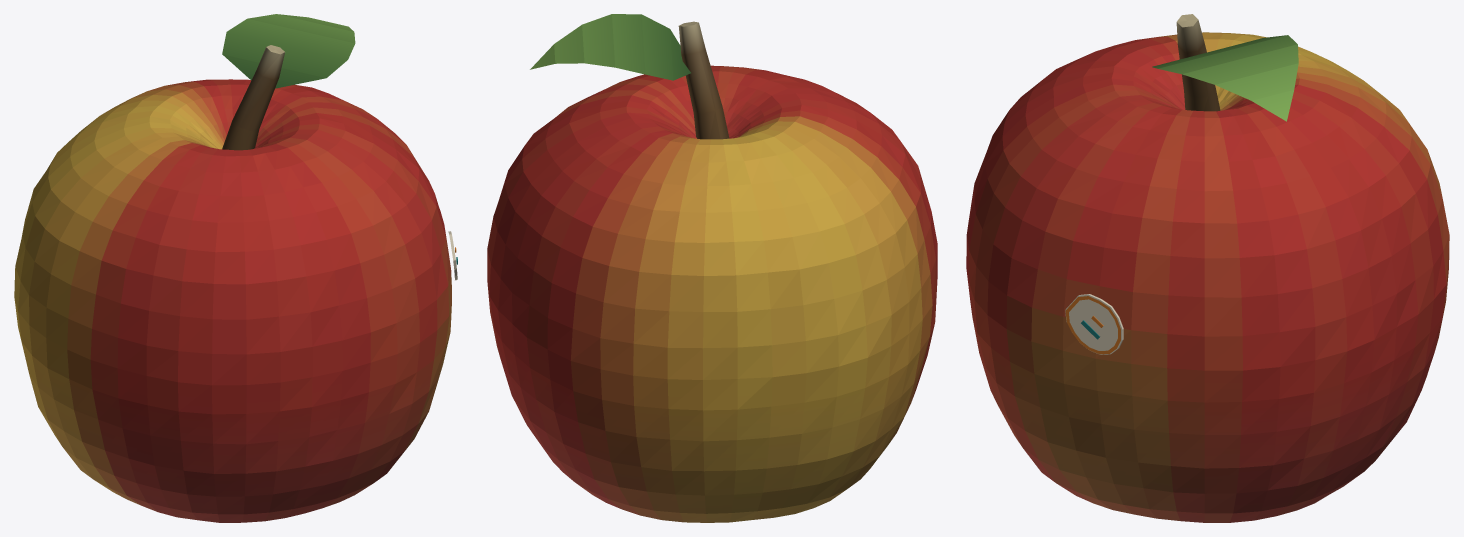
File: apples.glb
3 renders of one model, left to right at view 1: azimuth 30°, elevation 25°; view 2: azimuth 150°, elevation 25°; view 3: azimuth 270°, elevation 25°, orthographic. The views are drawn at different scales.
Parts seen in each view (by area): view 1: gs_apples; view 2: gs_apples; view 3: gs_apples.
Part boxes in pixels (x1=…): gs_apples: x1=14, y1=14, x2=457, y2=522; gs_apples: x1=487, y1=14, x2=937, y2=522; gs_apples: x1=966, y1=14, x2=1449, y2=522.
Bounding box in the file's own units: 0.079 × 0.0829 × 0.079.
